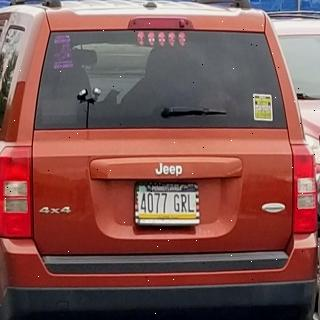license: (135, 183, 201, 227)
